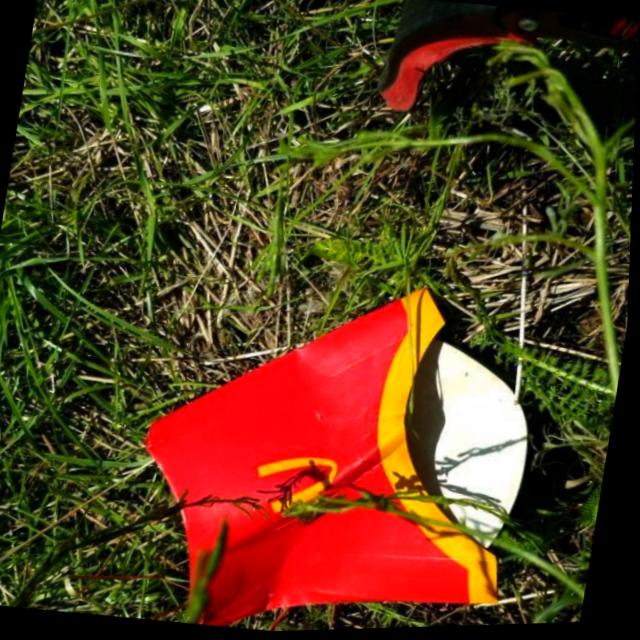Paper: (112, 248, 561, 637)
